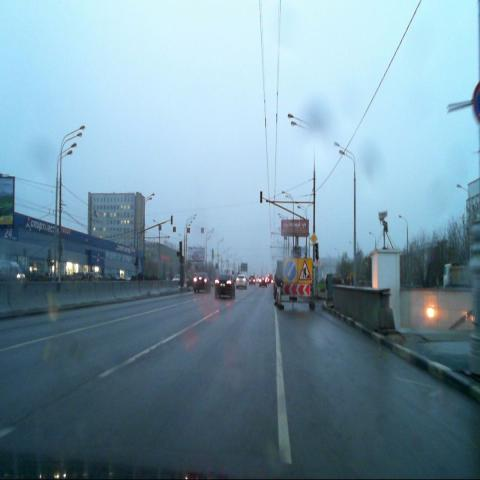4_2_2: (284, 259, 297, 283)
